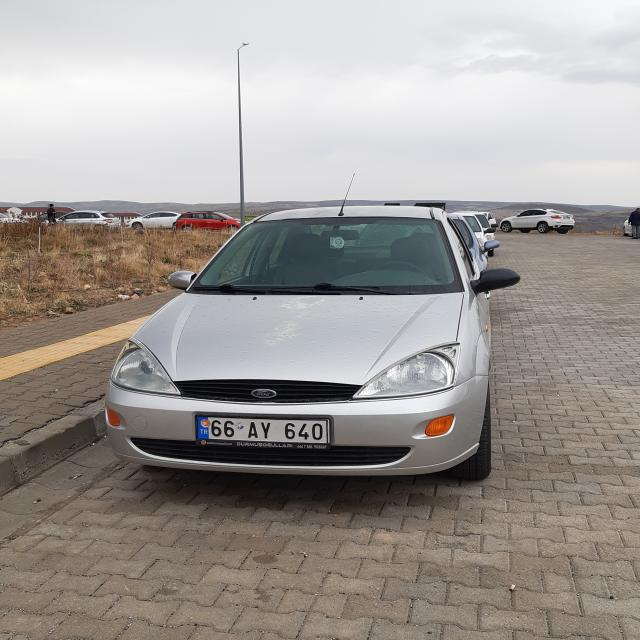license_plate: (197, 415, 329, 448)
